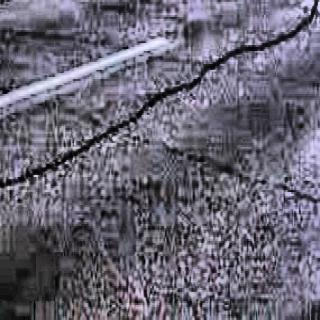crack: (7, 29, 297, 156)
